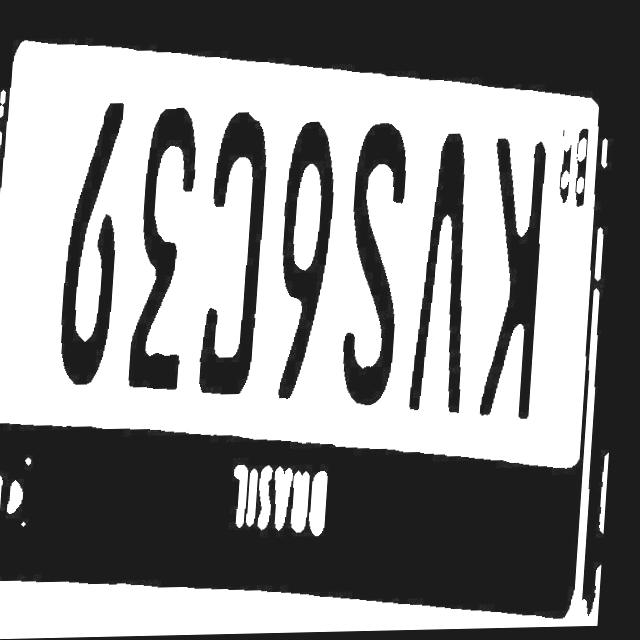3: (127, 100, 207, 406)
6: (266, 114, 350, 424)
9: (60, 94, 133, 404)
c: (201, 120, 275, 422)
k: (482, 112, 565, 421)
s: (340, 126, 420, 415)
v: (418, 123, 490, 412)
